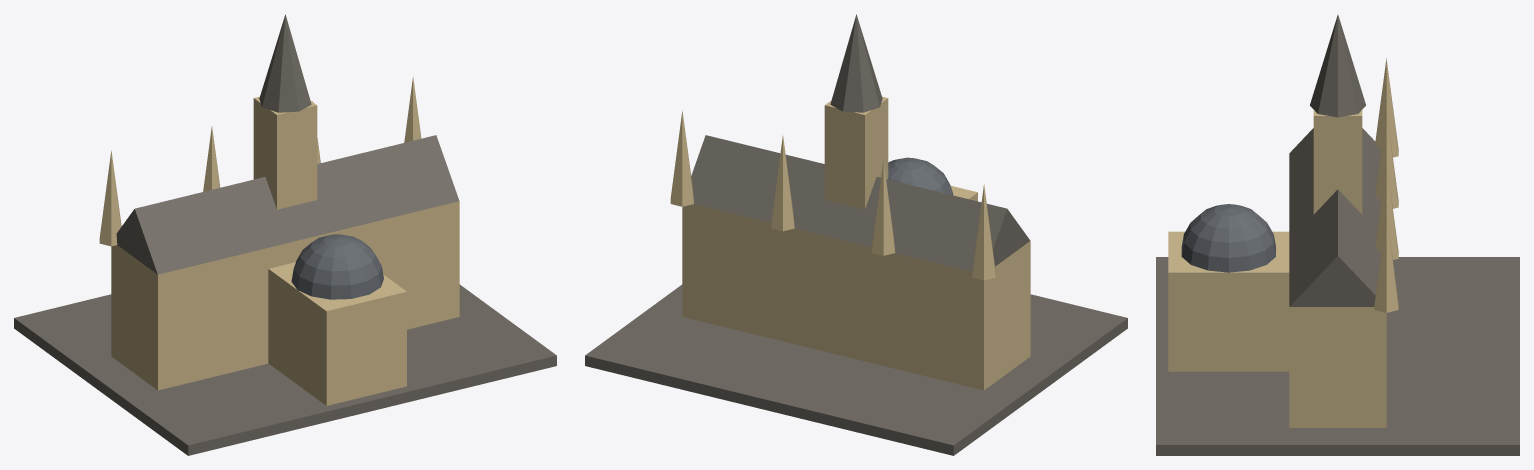
The model's file is oxford.glb.
3 renders of one model, left to right at view 1: azimuth 30°, elevation 25°; view 2: azimuth 150°, elevation 25°; view 3: azimuth 270°, elevation 25°, orthographic. The views are drawn at different scales.
Visible parts, largest first — view 1: oxford; view 2: oxford; view 3: oxford.
Boxes of the visible parts, x1,y1,x2,y2 form: oxford: (14, 14, 556, 455); oxford: (585, 14, 1127, 455); oxford: (1156, 15, 1519, 455).
Size of the model in its own units: 1.1 by 0.95 by 0.9.
